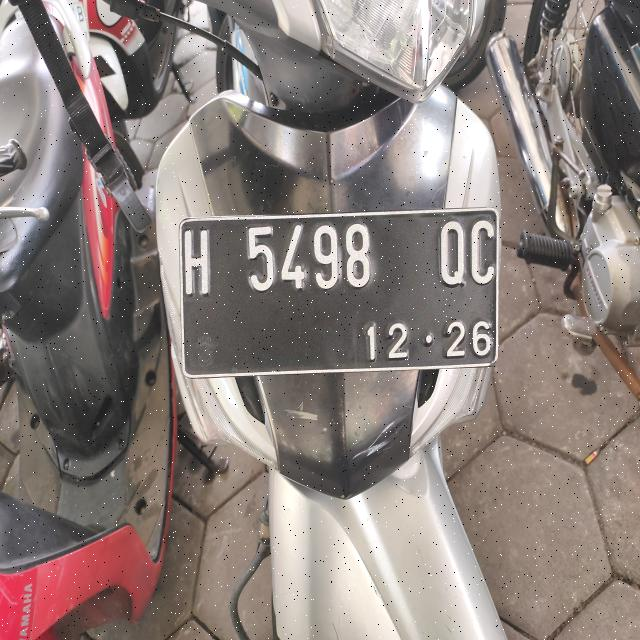plate: (180, 209, 498, 376)
